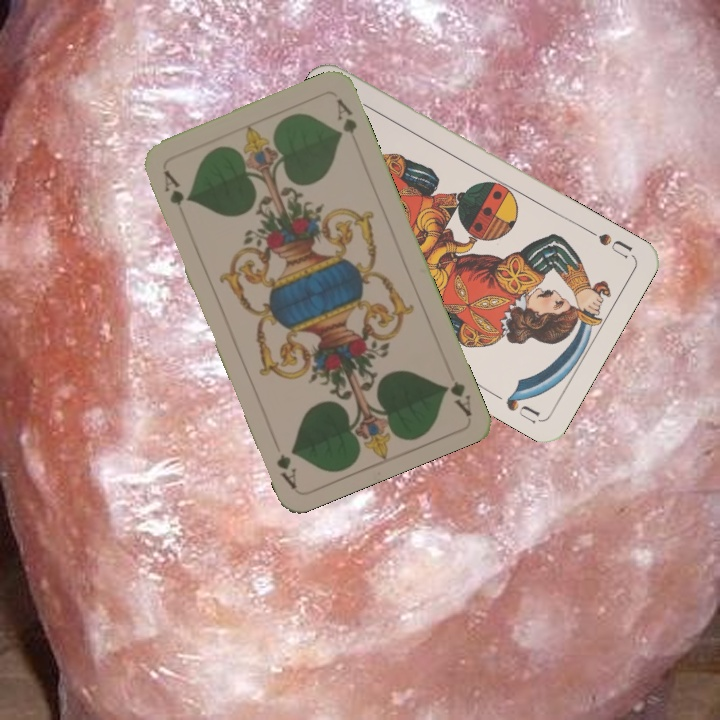GA: (440, 376, 474, 418), (159, 165, 192, 208)
SU: (582, 224, 636, 262)
